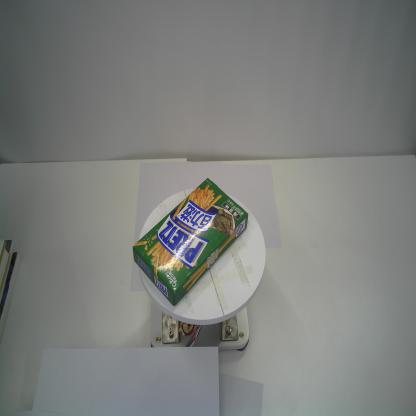Dessert: (131, 174, 248, 305)
